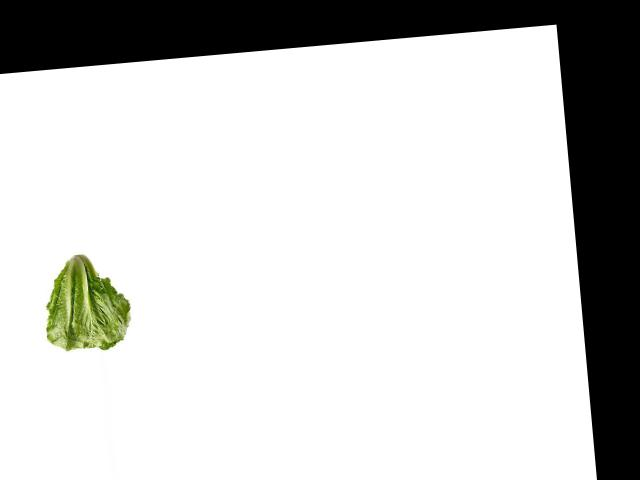lettuce: (42, 245, 137, 356)
